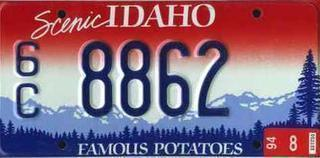placa de veiculo: (2, 2, 320, 152)
